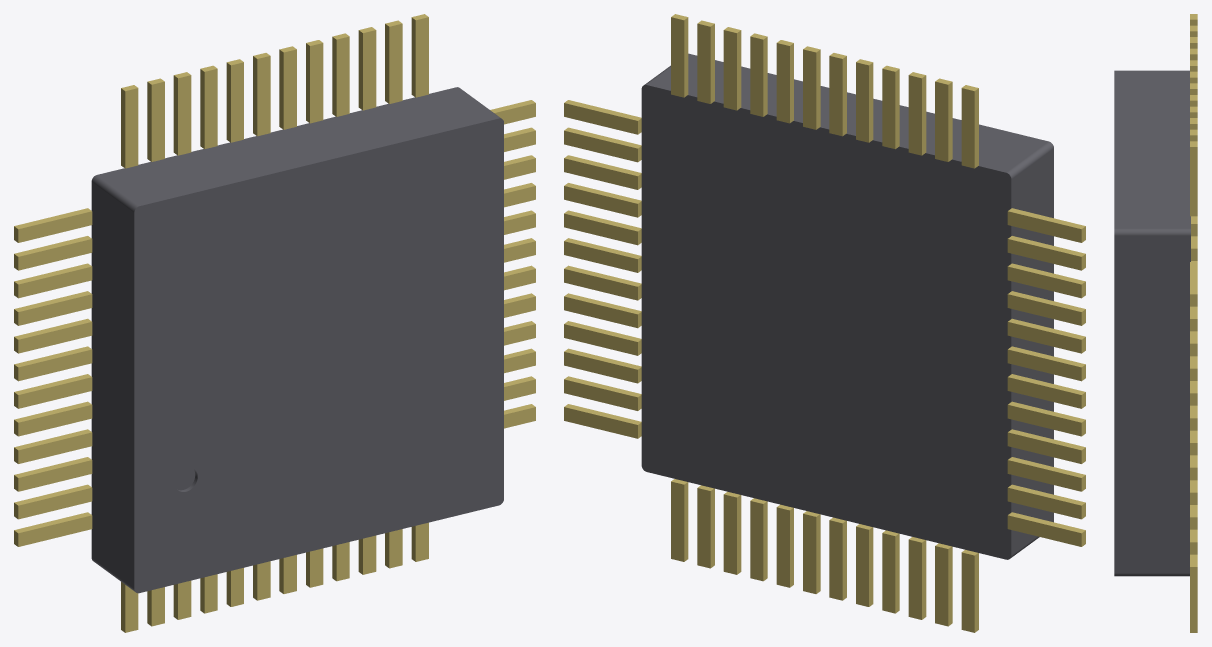
The picture shows the model from 3 angles, left to right: view 1: azimuth 30°, elevation 25°; view 2: azimuth 150°, elevation 25°; view 3: azimuth 270°, elevation 25°; orthographic projection. The views are drawn at different scales.
Visible parts, largest first — view 1: extra, pins; view 2: extra, pins; view 3: extra, pins.
Part boxes in pixels (x1,y1,x2,y2): extra: [91, 87, 503, 593]; pins: [14, 14, 535, 632]; extra: [641, 53, 1053, 559]; pins: [564, 14, 1085, 632]; extra: [1114, 70, 1190, 576]; pins: [1190, 14, 1197, 632].
Size of the model in its own units: 9.8 by 9.8 by 1.52.
